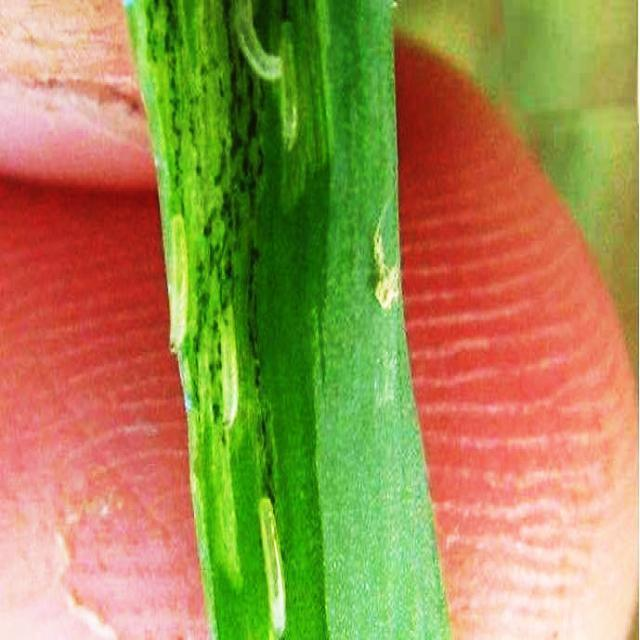whorl-maggot: (256, 493, 289, 640), (231, 0, 283, 88), (215, 298, 243, 443), (277, 14, 299, 160), (167, 214, 189, 357)
